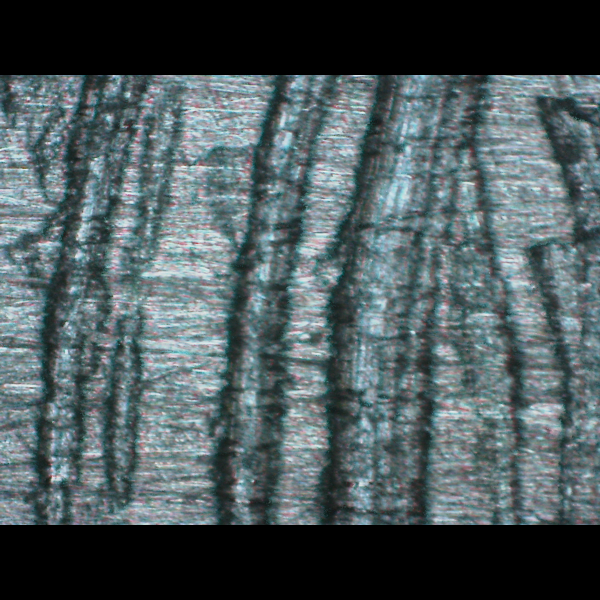d: (0, 76, 190, 525), (305, 76, 493, 525), (199, 75, 338, 525)
